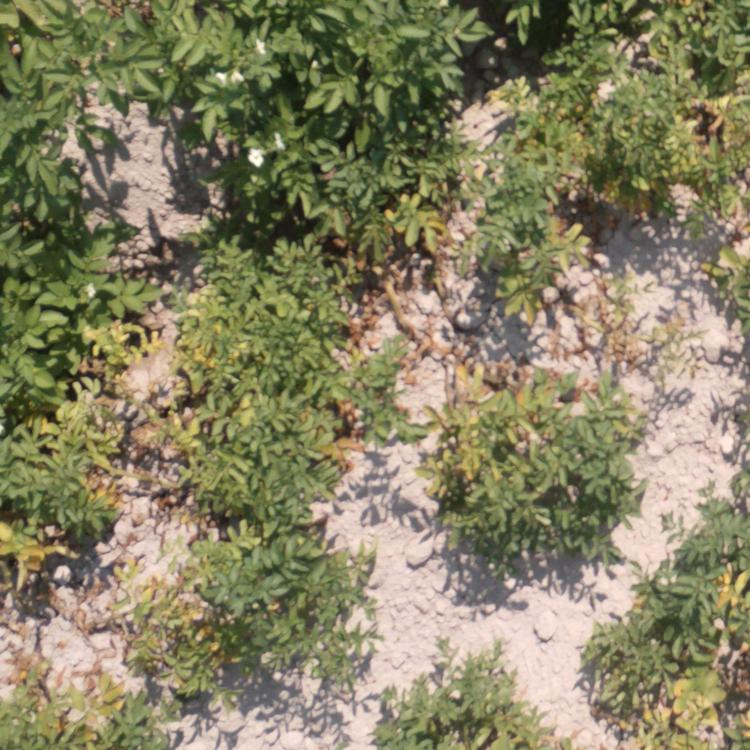healthy: (1, 1, 528, 120), (1, 124, 103, 308), (206, 124, 420, 198)
stressed: (153, 260, 357, 517), (3, 325, 150, 579), (547, 1, 750, 165), (436, 369, 606, 562), (142, 532, 359, 682), (612, 589, 750, 740), (470, 131, 559, 335), (384, 647, 543, 750), (1, 675, 174, 748), (383, 263, 454, 367), (288, 202, 446, 248), (698, 477, 750, 577), (692, 225, 750, 298), (598, 304, 655, 347)
